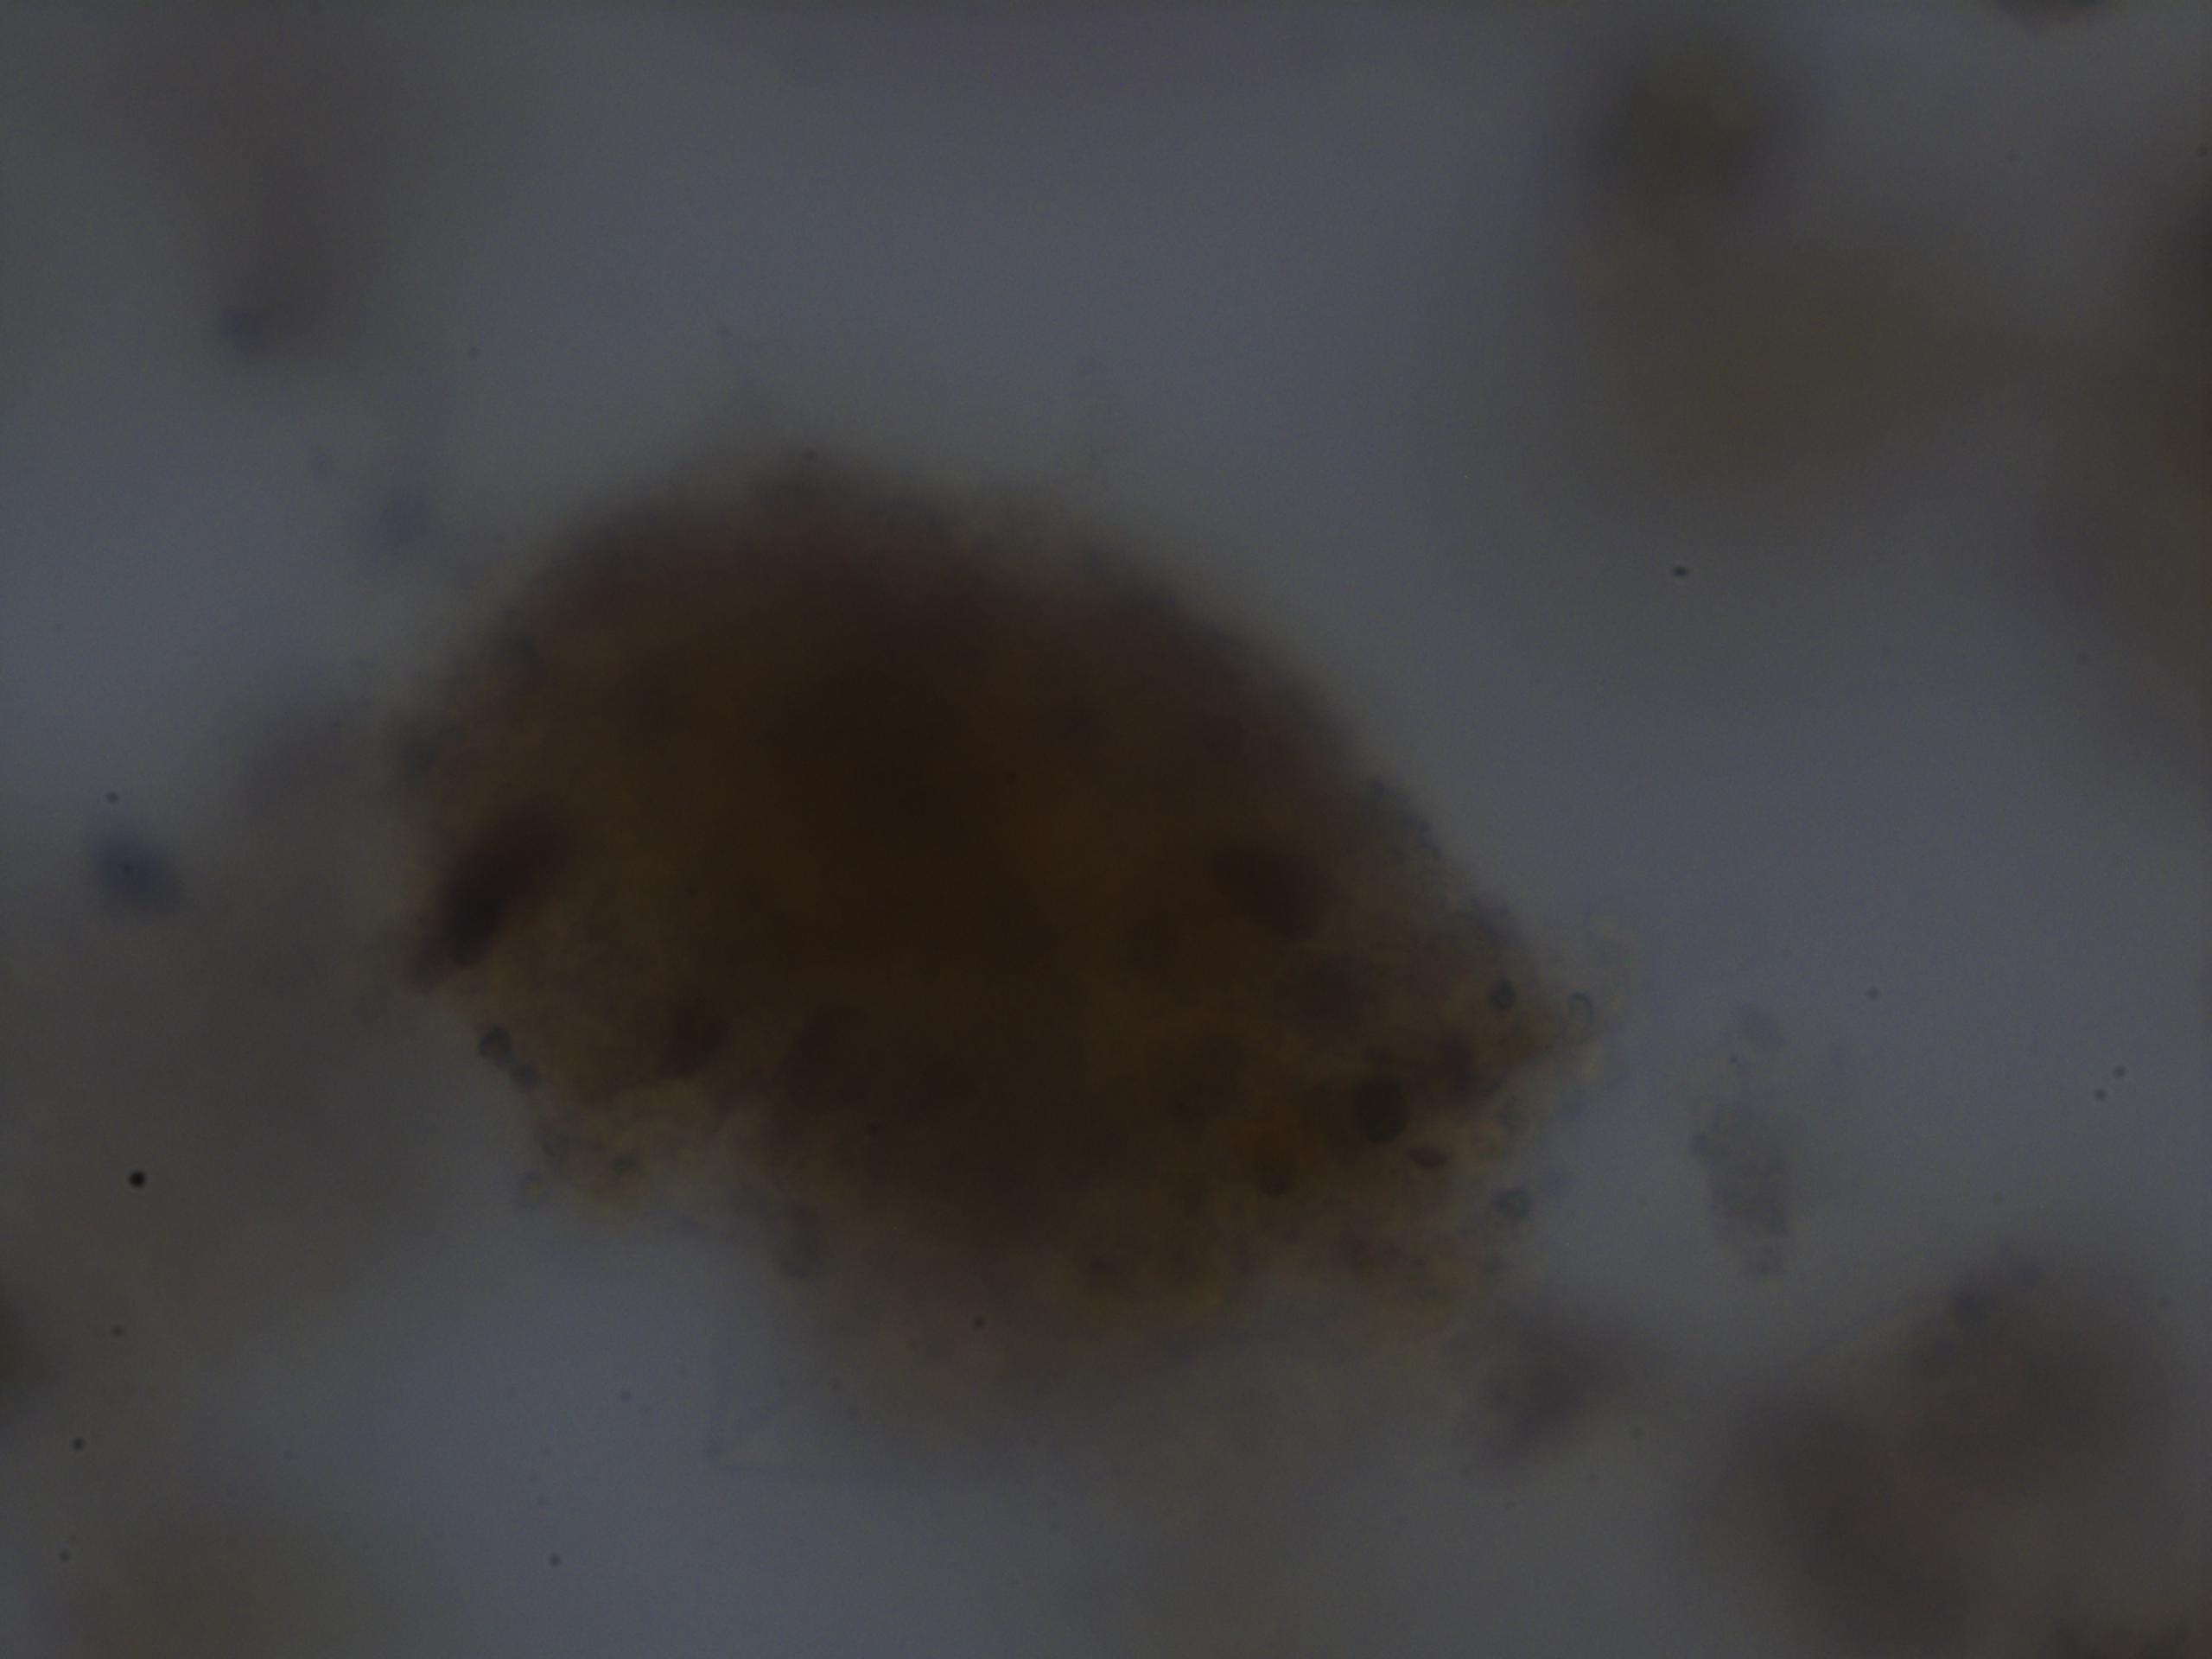spherical_floc: (371, 450, 1583, 1436)
